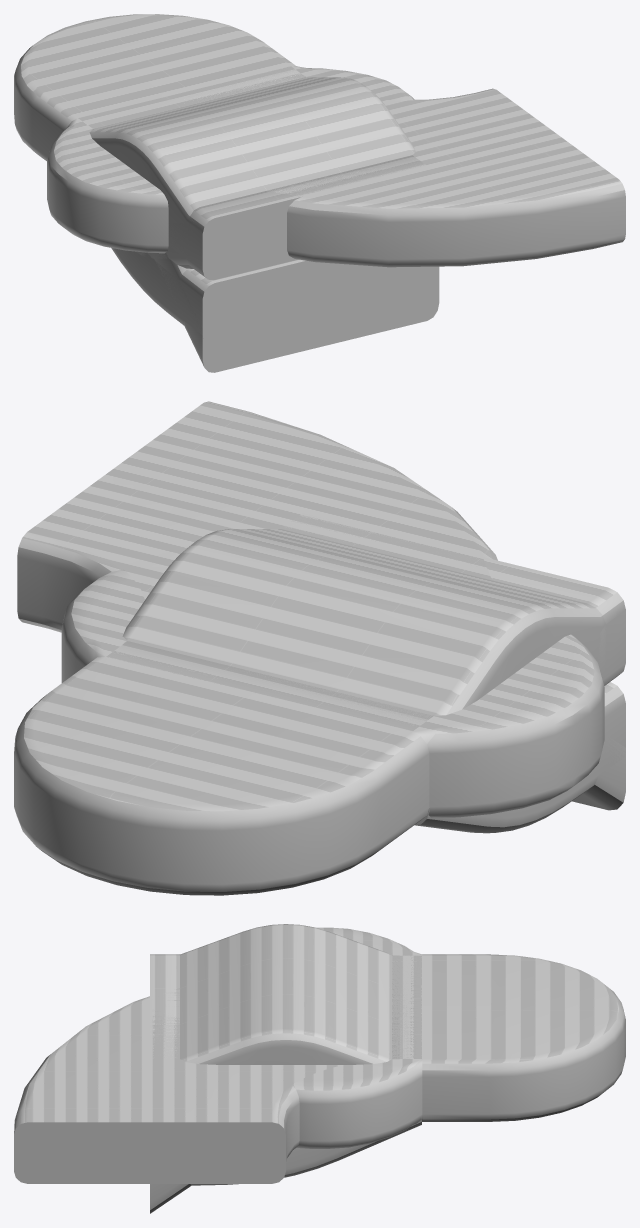
Rendered from Floor_2x4_BothSofter_thick.fbx.
3 renders of one model, top to bottom at view 1: azimuth 30°, elevation 25°; view 2: azimuth 150°, elevation 25°; view 3: azimuth 270°, elevation 25°, orthographic. The views are drawn at different scales.
Parts seen in each view (by area): view 1: Floor_2x4_BSr_T_rotate, Floor_2x4_BSr_T_hill, Floor_2x4_BSr_T_cao, Floor_2x4_BSr_T_ramp2, Floor_2x4_BSr_T_circle, Floor_2x4_BSr_T_deep2, Floor_2x4_BSr_T_ramp1, Floor_2x4_BSr_T_deep1; view 2: Floor_2x4_BSr_T_cao, Floor_2x4_BSr_T_hill, Floor_2x4_BSr_T_rotate, Floor_2x4_BSr_T_circle, Floor_2x4_BSr_T_deep2, Floor_2x4_BSr_T_ramp2, Floor_2x4_BSr_T_ramp1; view 3: Floor_2x4_BSr_T_rotate, Floor_2x4_BSr_T_cao, Floor_2x4_BSr_T_hill, Floor_2x4_BSr_T_circle, Floor_2x4_BSr_T_deep2, Floor_2x4_BSr_T_ramp2, Floor_2x4_BSr_T_ramp1.
Boxes of the visible parts, x1,y1,x2,y2 form: Floor_2x4_BSr_T_rotate: [78, 66, 625, 267]; Floor_2x4_BSr_T_hill: [89, 77, 415, 269]; Floor_2x4_BSr_T_cao: [14, 14, 296, 161]; Floor_2x4_BSr_T_ramp2: [111, 248, 439, 344]; Floor_2x4_BSr_T_circle: [47, 66, 414, 253]; Floor_2x4_BSr_T_deep2: [84, 66, 427, 279]; Floor_2x4_BSr_T_ramp1: [151, 253, 439, 372]; Floor_2x4_BSr_T_deep1: [136, 197, 300, 279]; Floor_2x4_BSr_T_cao: [14, 657, 429, 895]; Floor_2x4_BSr_T_hill: [122, 529, 625, 715]; Floor_2x4_BSr_T_rotate: [17, 401, 497, 729]; Floor_2x4_BSr_T_circle: [61, 569, 604, 818]; Floor_2x4_BSr_T_deep2: [107, 513, 624, 731]; Floor_2x4_BSr_T_ramp2: [414, 682, 625, 833]; Floor_2x4_BSr_T_ramp1: [572, 735, 625, 810]; Floor_2x4_BSr_T_rotate: [14, 955, 421, 1183]; Floor_2x4_BSr_T_cao: [422, 954, 625, 1121]; Floor_2x4_BSr_T_hill: [179, 924, 391, 1064]; Floor_2x4_BSr_T_circle: [292, 927, 422, 1148]; Floor_2x4_BSr_T_deep2: [150, 954, 421, 1058]; Floor_2x4_BSr_T_ramp2: [190, 1116, 421, 1185]; Floor_2x4_BSr_T_ramp1: [150, 1184, 191, 1213].
Bounding box in the file's own units: 694 × 299 × 900.
